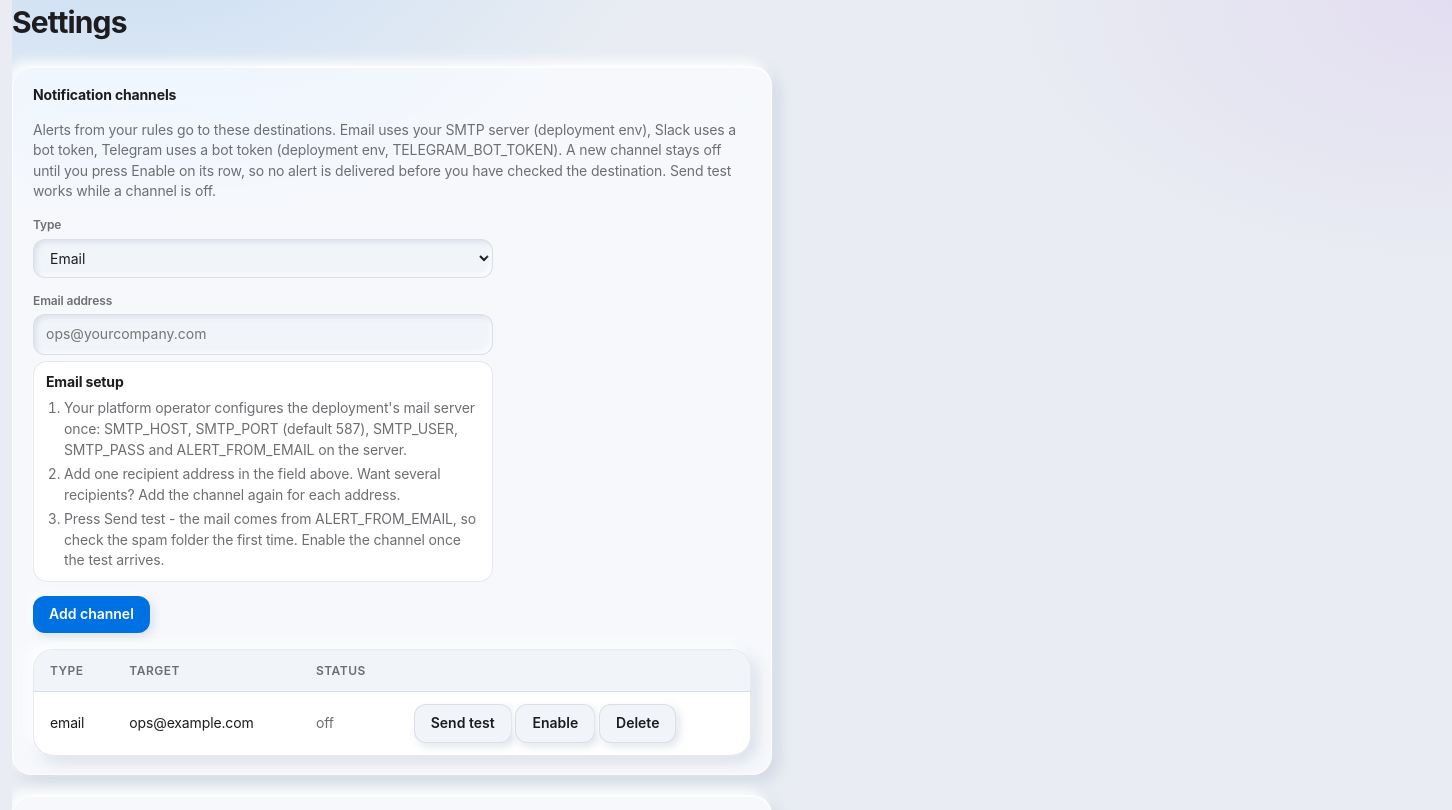
Test: failed test shows the server error inline on the channel row
The image size is (1452, 810).
What coordinates should you click on to do the following:
click the button "Send test"
I would click on:
 (463, 724)
Its box is left=414, top=704, right=512, bottom=743.
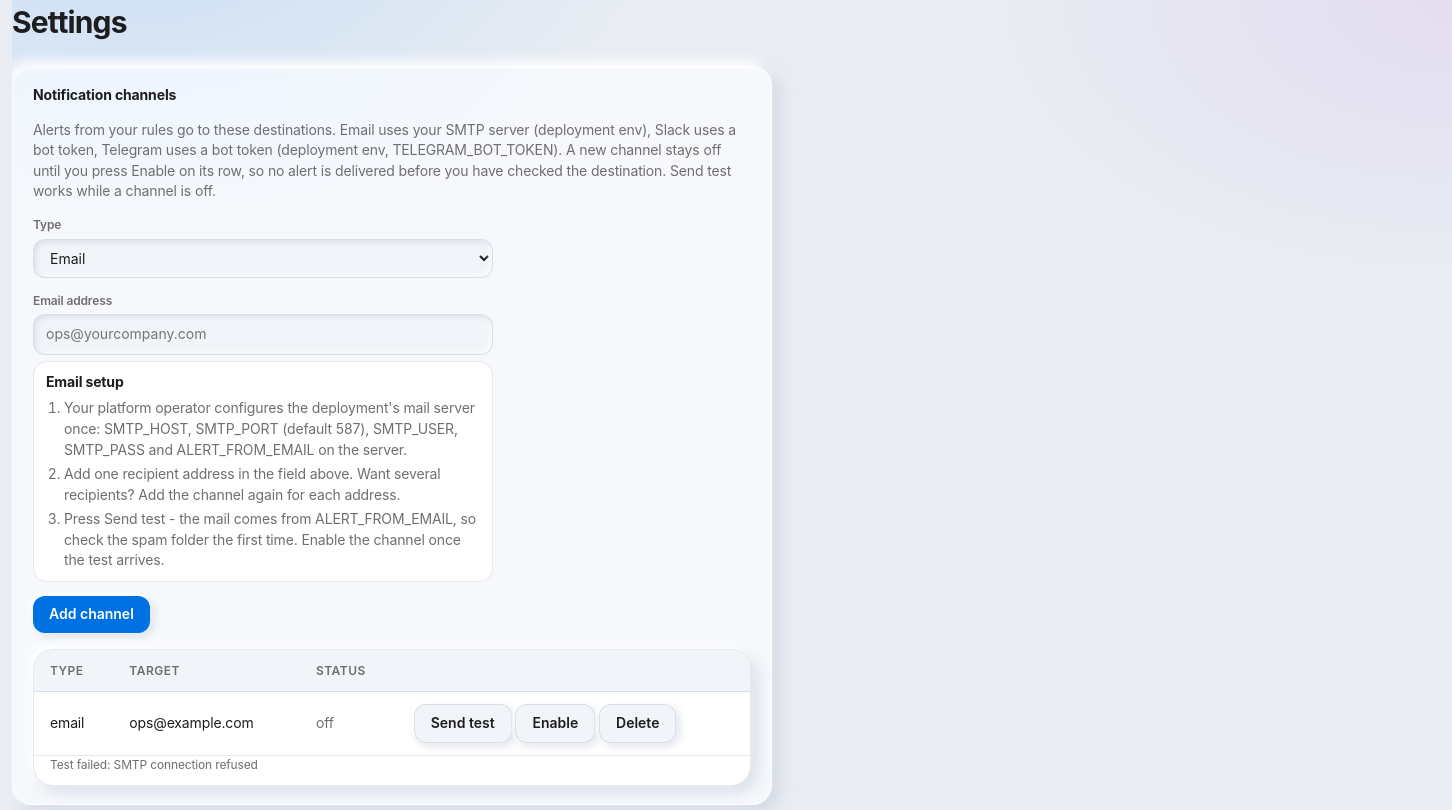
Expected: the message with test id "test-result-ch1" reads "Test failed: SMTP connection refused", left=50, top=757, right=258, bottom=772
